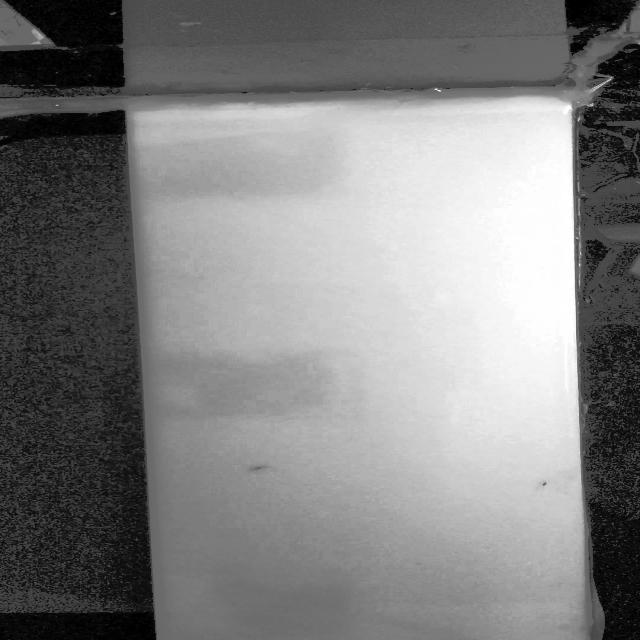shrimp: (240, 460, 276, 474), (534, 478, 556, 488)
